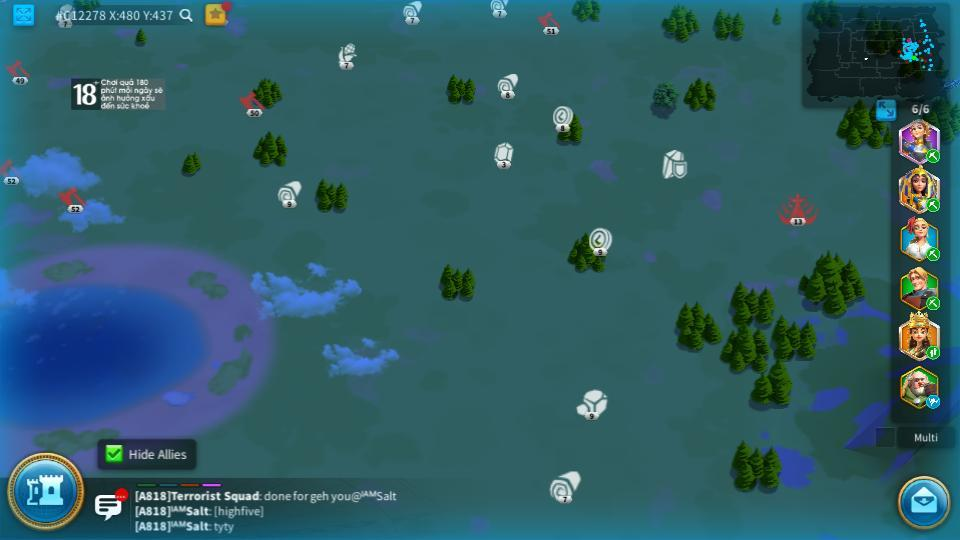gem-z-out: (581, 390, 606, 418), (492, 141, 515, 167)
march_farming: (923, 197, 940, 212), (924, 248, 939, 260), (925, 297, 941, 308)
march_idle: (925, 396, 942, 408)
march_marching: (925, 345, 941, 359), (925, 150, 941, 162)
